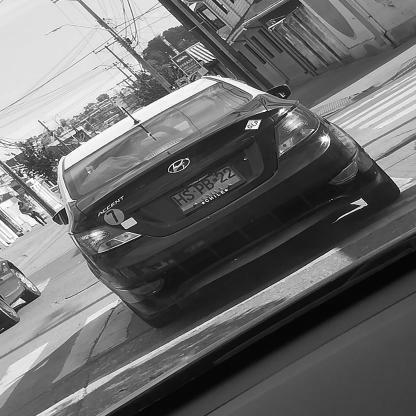Patente: (169, 162, 249, 217)
